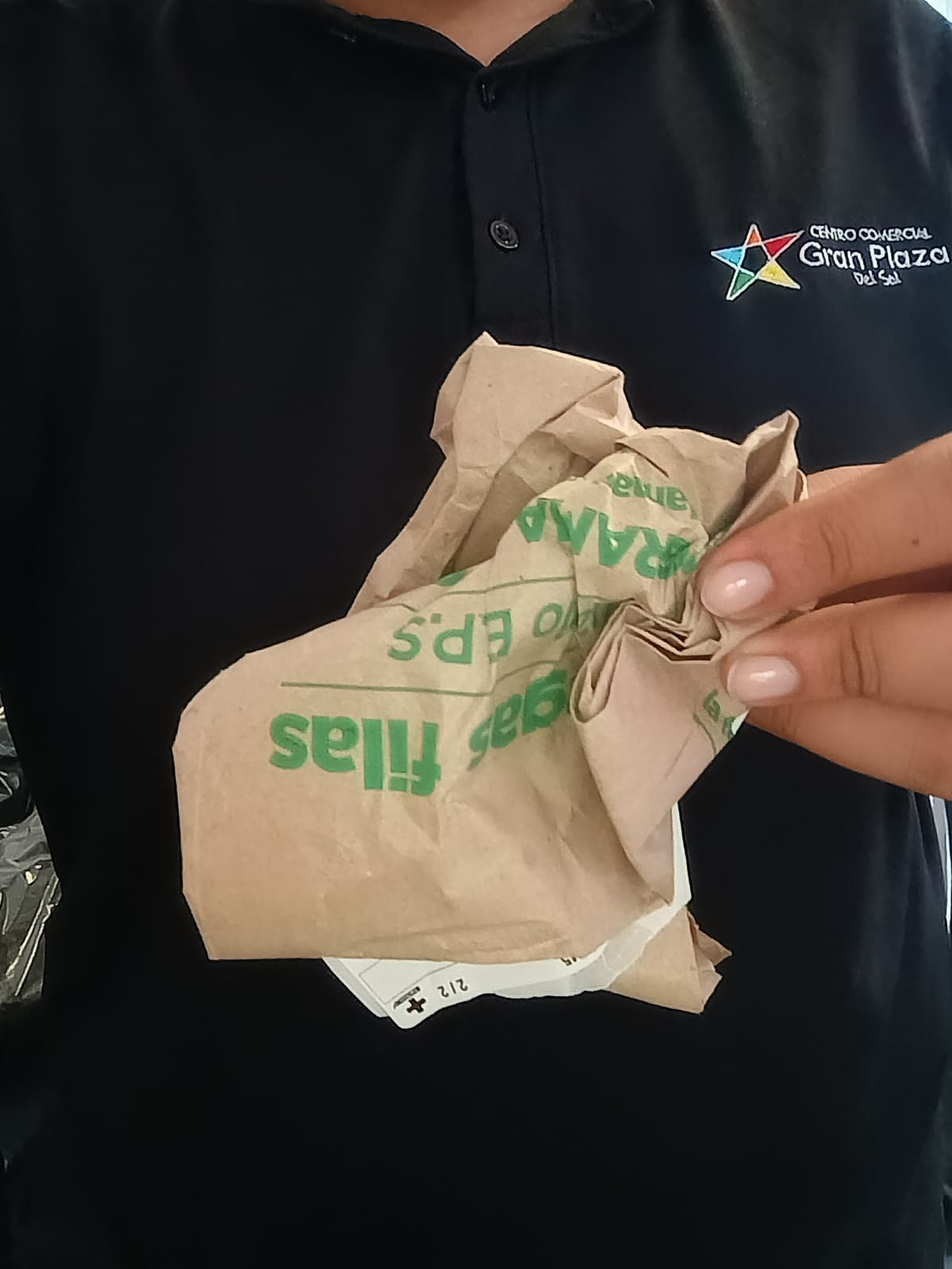Carton: (175, 335, 809, 1032)
